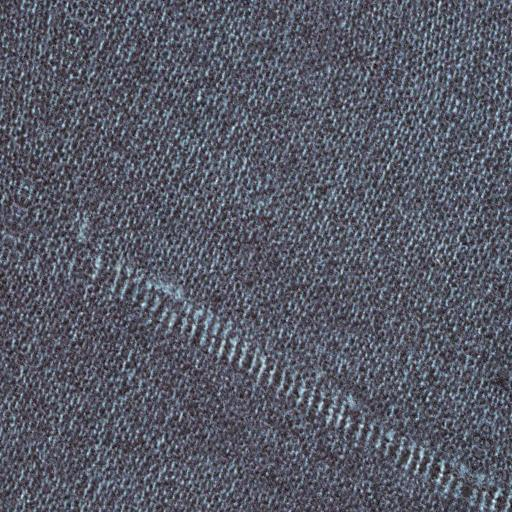slub: (79, 243, 511, 511)
